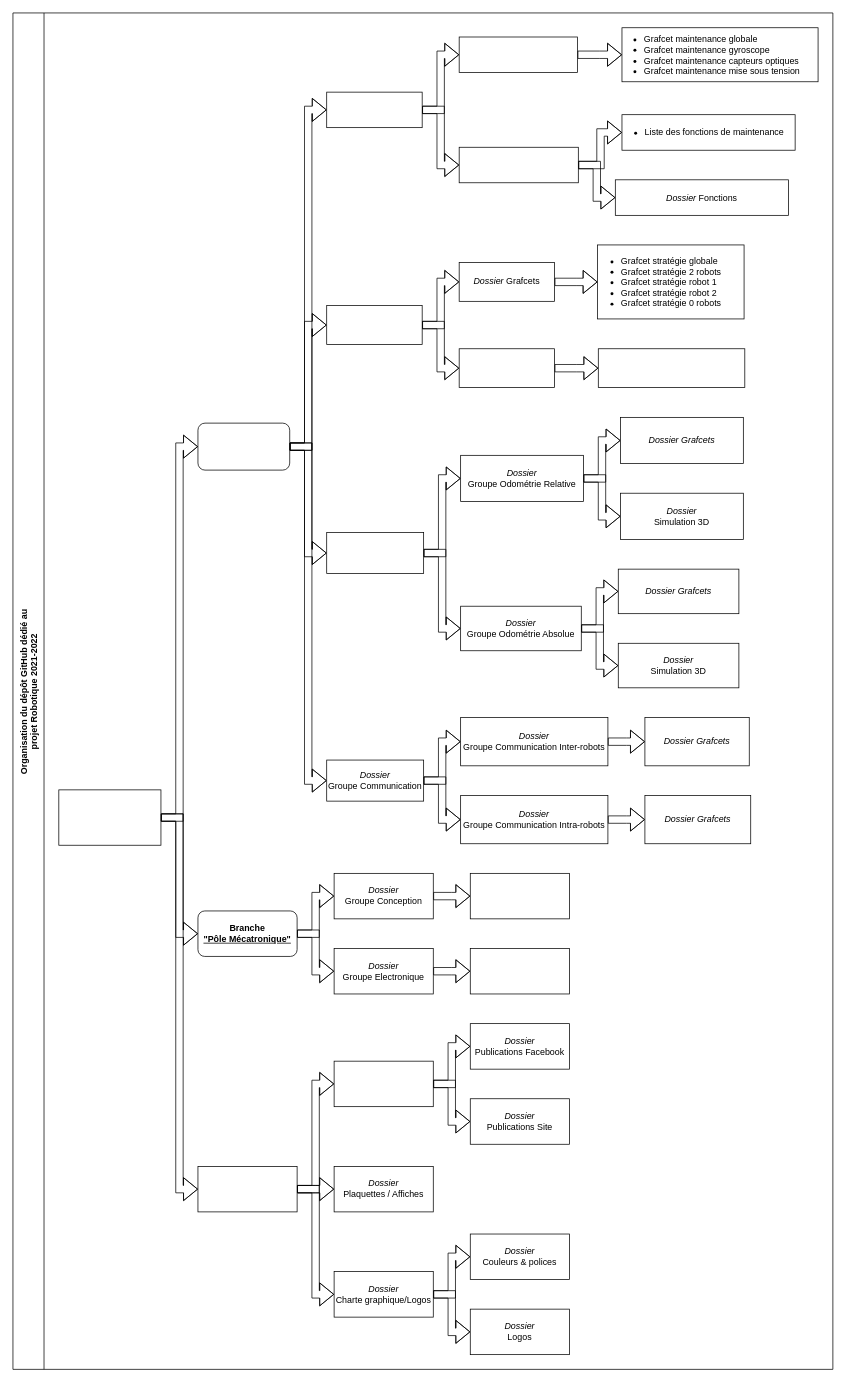
Some shapes in this 846 by 1382 pixel diagram are drawn without their labels. The shapes that lost their labels are listed below. From the top down, each one's box as (x1, y1, x2, y2) in pixels, then its label:
(458, 36, 578, 73): Dossier G rafcets
(326, 91, 422, 128): Dossier Groupe Maintenance
(458, 147, 578, 183): Dossier Fonctions de maintenances
(326, 305, 422, 344): Dossier Groupe Stratégie
(458, 348, 555, 388): Dossier Stratégie
(598, 348, 745, 388): Stratégie globale Stratégie en cas d'avarie
(197, 422, 290, 470): Branche "Pôle Informatique"
(326, 532, 424, 574): Dossier Groupe Odométrie
(58, 789, 161, 845): Dossier racine (2021-2022)
(470, 873, 569, 919): Dossier Modèles 3D
(470, 948, 569, 994): Dossier Cartes STM32
(333, 1060, 433, 1107): Dossier Publications
(197, 1166, 297, 1212): Branche "Communication"
